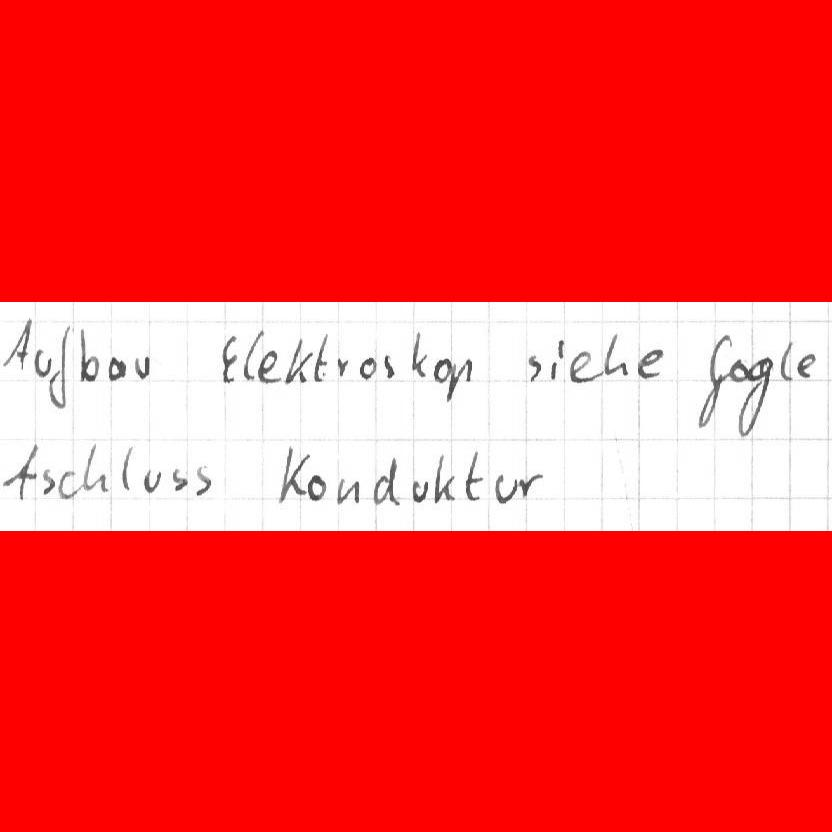Char: (695, 332, 730, 429), (740, 355, 773, 438), (276, 442, 311, 507), (2, 438, 38, 499), (49, 321, 74, 408), (369, 453, 402, 509), (1, 316, 32, 372), (602, 331, 632, 378), (284, 337, 312, 387), (445, 356, 474, 402), (83, 442, 110, 491), (433, 451, 457, 506), (463, 449, 485, 505), (79, 326, 100, 382), (570, 349, 603, 383), (409, 330, 430, 382), (636, 347, 667, 380), (220, 333, 240, 384), (118, 444, 138, 494), (256, 348, 282, 386), (312, 331, 331, 383), (242, 329, 260, 381), (334, 475, 364, 506), (57, 464, 81, 502), (778, 337, 795, 386), (519, 470, 545, 500), (494, 472, 519, 503), (548, 337, 565, 380), (305, 470, 327, 502), (191, 463, 211, 498), (105, 355, 129, 384), (727, 356, 750, 385), (526, 351, 546, 384), (140, 466, 163, 494), (38, 466, 58, 498), (797, 351, 817, 380), (169, 465, 189, 494), (33, 348, 51, 378), (433, 355, 451, 385), (133, 354, 152, 382), (357, 355, 376, 381), (412, 478, 430, 505), (382, 350, 397, 378), (335, 355, 351, 378)
